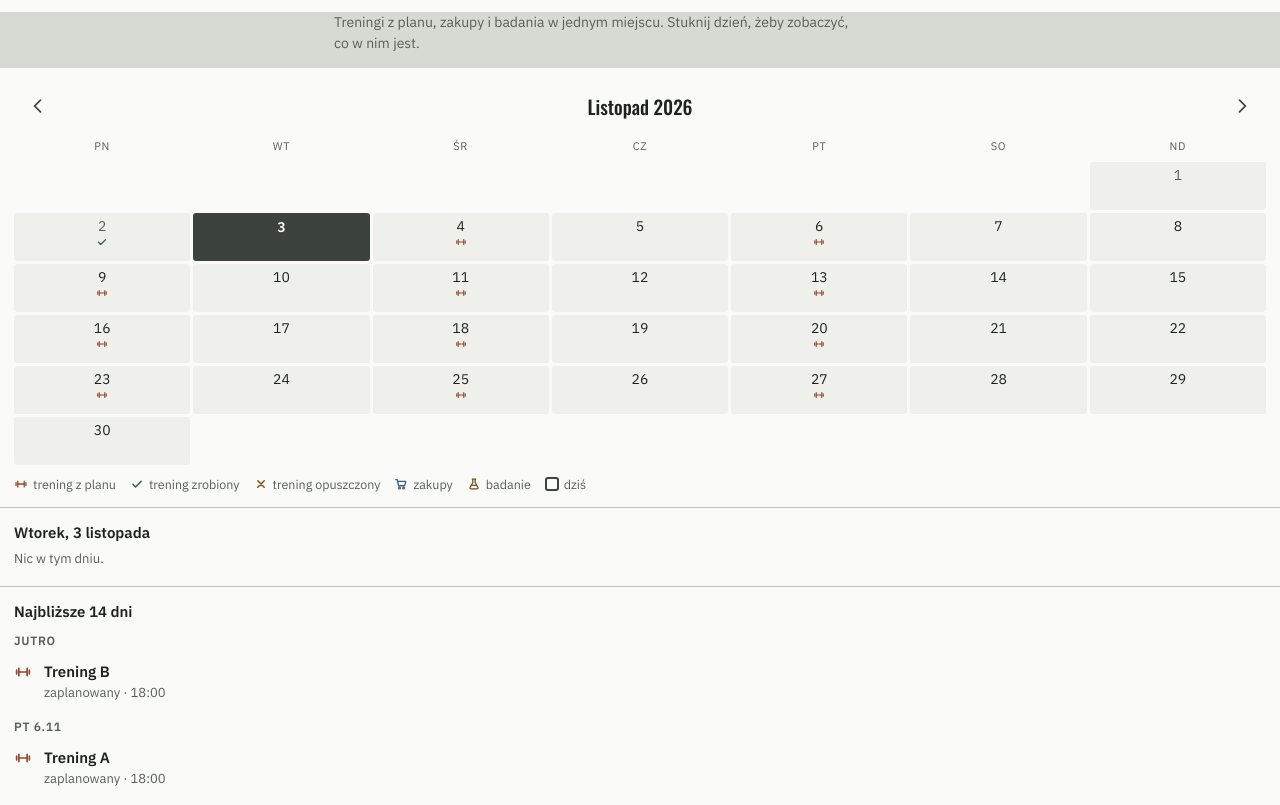
Test case: kalendarz — miesiąc i dni › poprzedni i następny miesiąc, z powrotem do dziś
Click the button named "Następny miesiąc" at point(1242, 106), box left=1218, top=82, right=1266, bottom=130
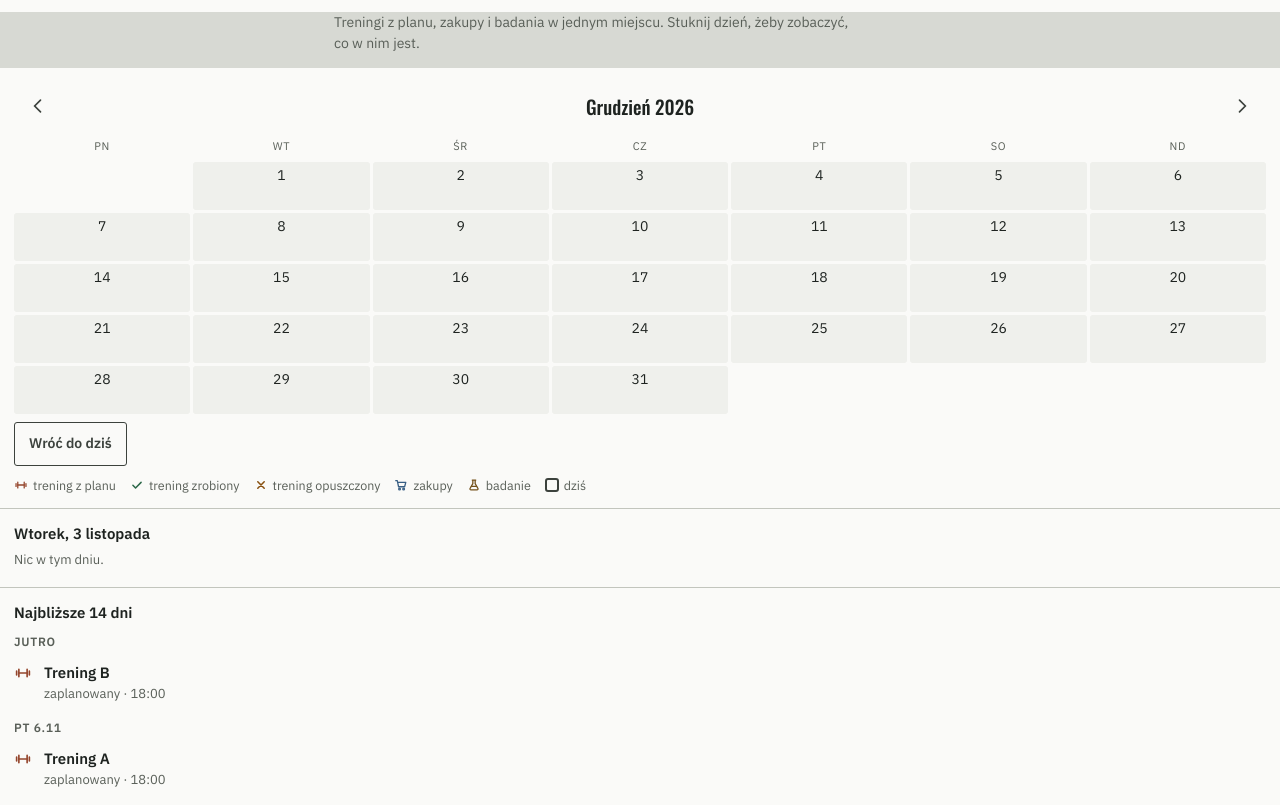
Expected: the heading "grudzień 2026" is shown, left=586, top=92, right=694, bottom=120
Click the button named "Poprzedni miesiąc" at point(38, 106), box left=14, top=82, right=62, bottom=130
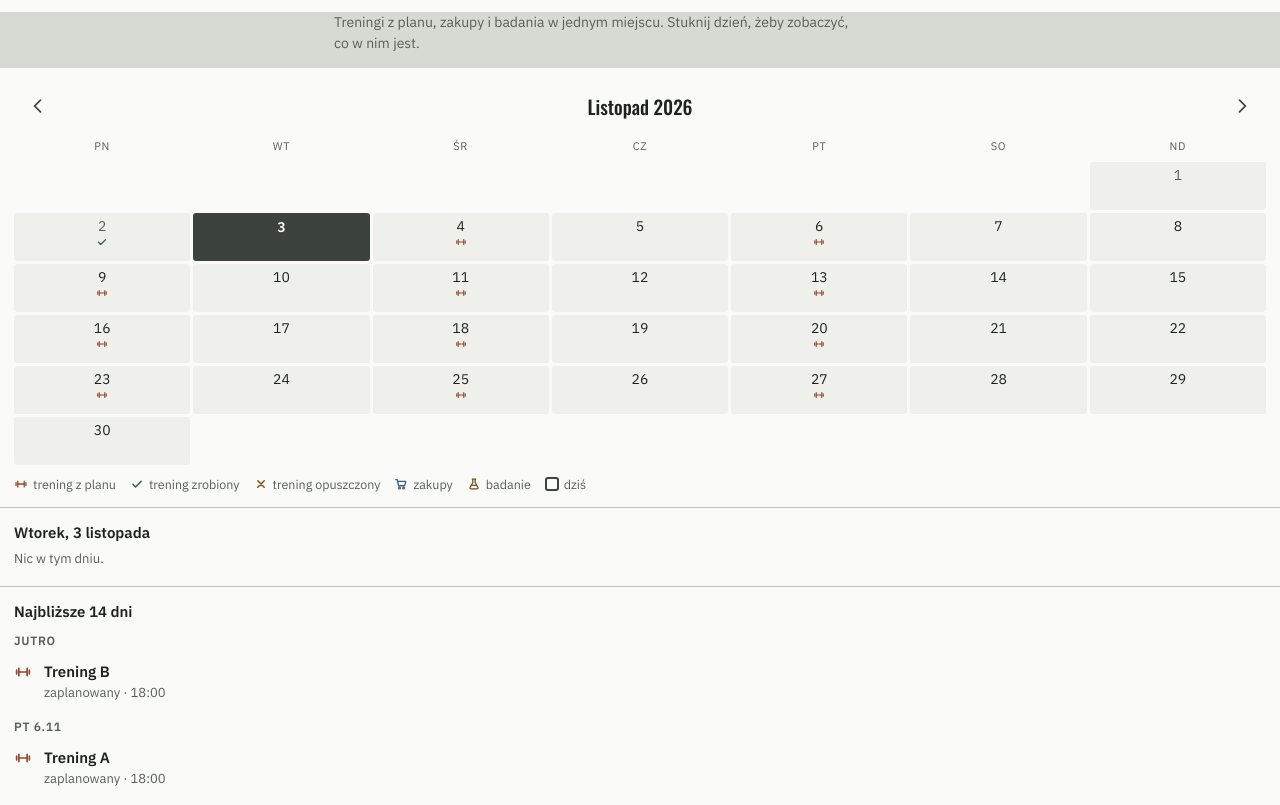
Click the button named "Poprzedni miesiąc" at point(38, 106), box left=14, top=82, right=62, bottom=130
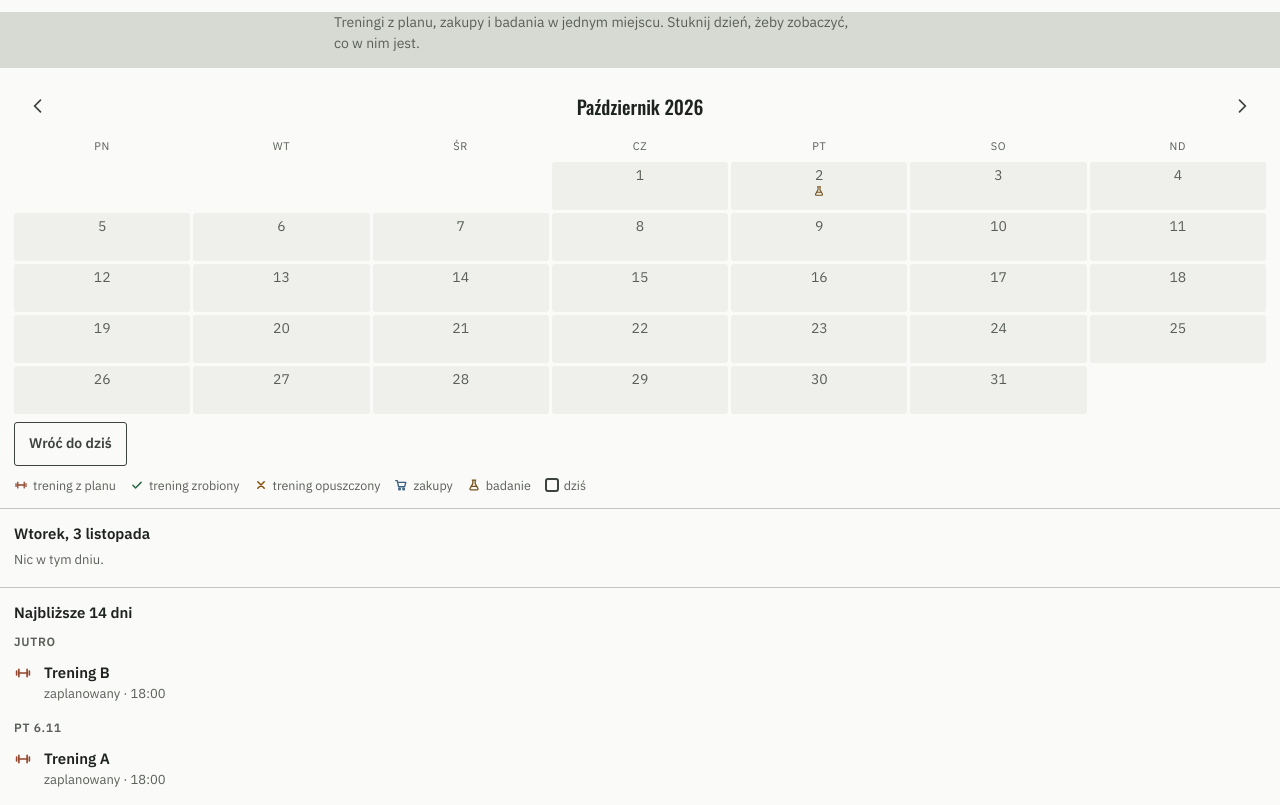
Expected: the heading "październik 2026" is shown, left=577, top=92, right=703, bottom=120
Expected: the button named "piątek, 2 października: badanie" is shown, left=731, top=162, right=907, bottom=210
Click the button "Wróć do dziś" at point(70, 444), box left=14, top=422, right=127, bottom=466
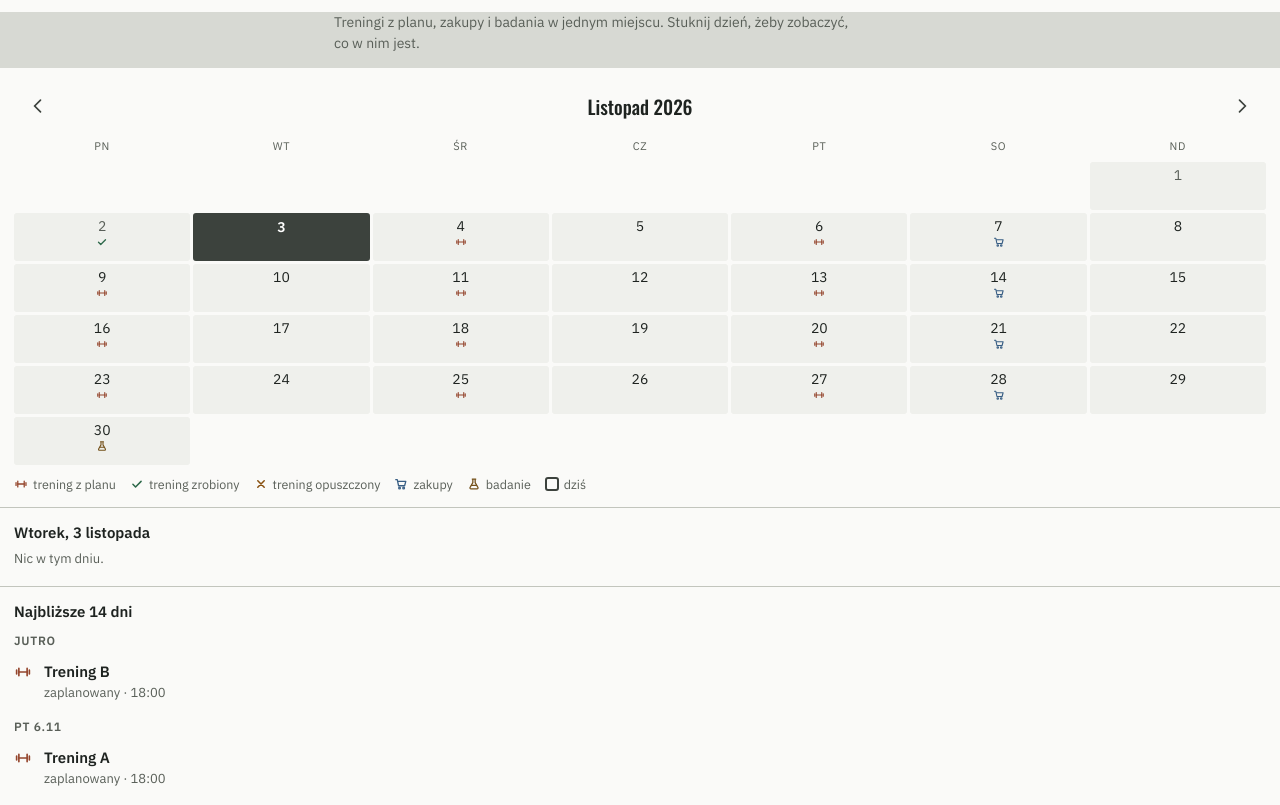
Expected: the heading "listopad 2026" is shown, left=588, top=92, right=693, bottom=120
